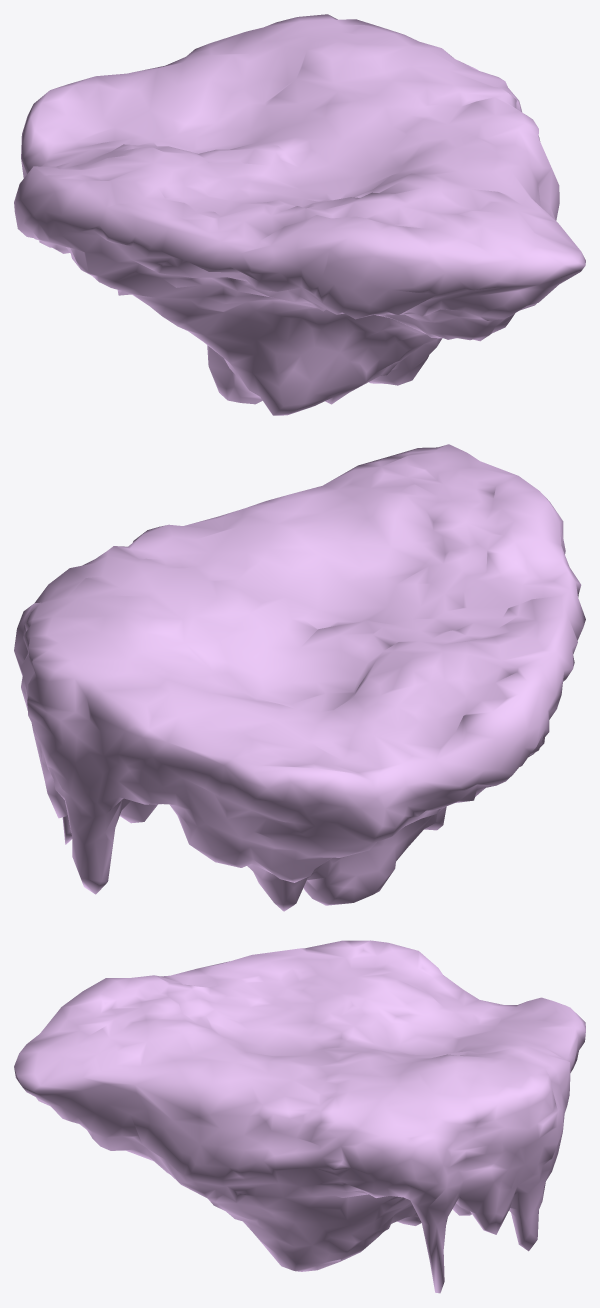
The model's file is lava_wall_08.FBX.
3 views of the same model, one above another, from view 1: azimuth 30°, elevation 25°; view 2: azimuth 150°, elevation 25°; view 3: azimuth 270°, elevation 25° (orthographic). The views are drawn at different scales.
Parts seen in each view (by area): view 1: lava_wall_08_LOD0; view 2: lava_wall_08_LOD0; view 3: lava_wall_08_LOD0.
Boxes of the visible parts, x1,y1,x2,y2 form: lava_wall_08_LOD0: (14, 14, 585, 415); lava_wall_08_LOD0: (14, 444, 585, 911); lava_wall_08_LOD0: (14, 940, 585, 1293).
Size of what is drawn, in the model's own units: 233 by 132 by 286.
